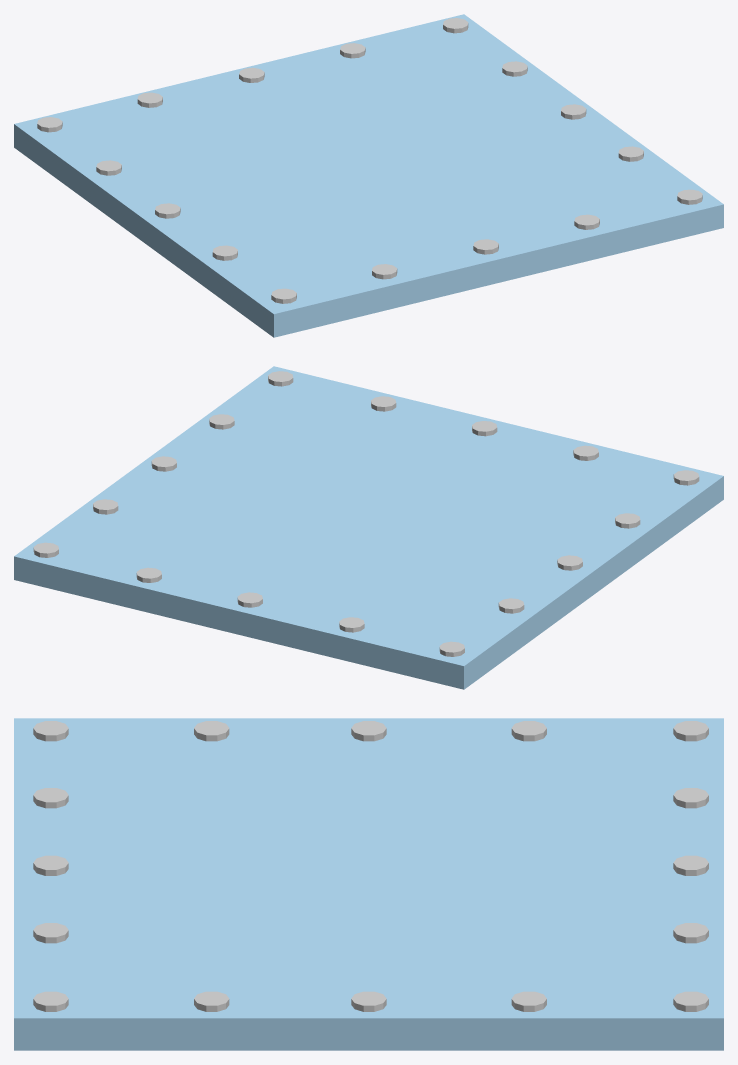
File: HullPlate.fbx
3 renders of one model, top to bottom at view 1: azimuth 30°, elevation 25°; view 2: azimuth 150°, elevation 25°; view 3: azimuth 270°, elevation 25°, orthographic. The views are drawn at different scales.
Visible parts, largest first — view 1: Cube; view 2: Cube; view 3: Cube, Cylinder.003, Cylinder.004, Cylinder.009, Cylinder.010, Cylinder.011, Cylinder.012, Cylinder.013, Cylinder.014, Cylinder.015, Cylinder.001, Cylinder.006 (+5 smaller).
Boxes of the visible parts, x1,y1,x2,y2 form: Cube: (14,14,723,337); Cube: (14,366,723,689); Cube: (14,718,723,1050); Cylinder.003: (33,855,68,875); Cylinder.004: (673,855,708,875); Cylinder.009: (673,788,708,808); Cylinder.010: (33,923,68,943); Cylinder.011: (673,923,708,943); Cylinder.012: (194,991,229,1011); Cylinder.013: (194,721,229,741); Cylinder.014: (511,721,546,741); Cylinder.015: (511,991,546,1011); Cylinder.001: (673,721,708,741); Cylinder.006: (673,991,708,1011).
Bounding box in the file's own units: 2000 × 119 × 2000.
